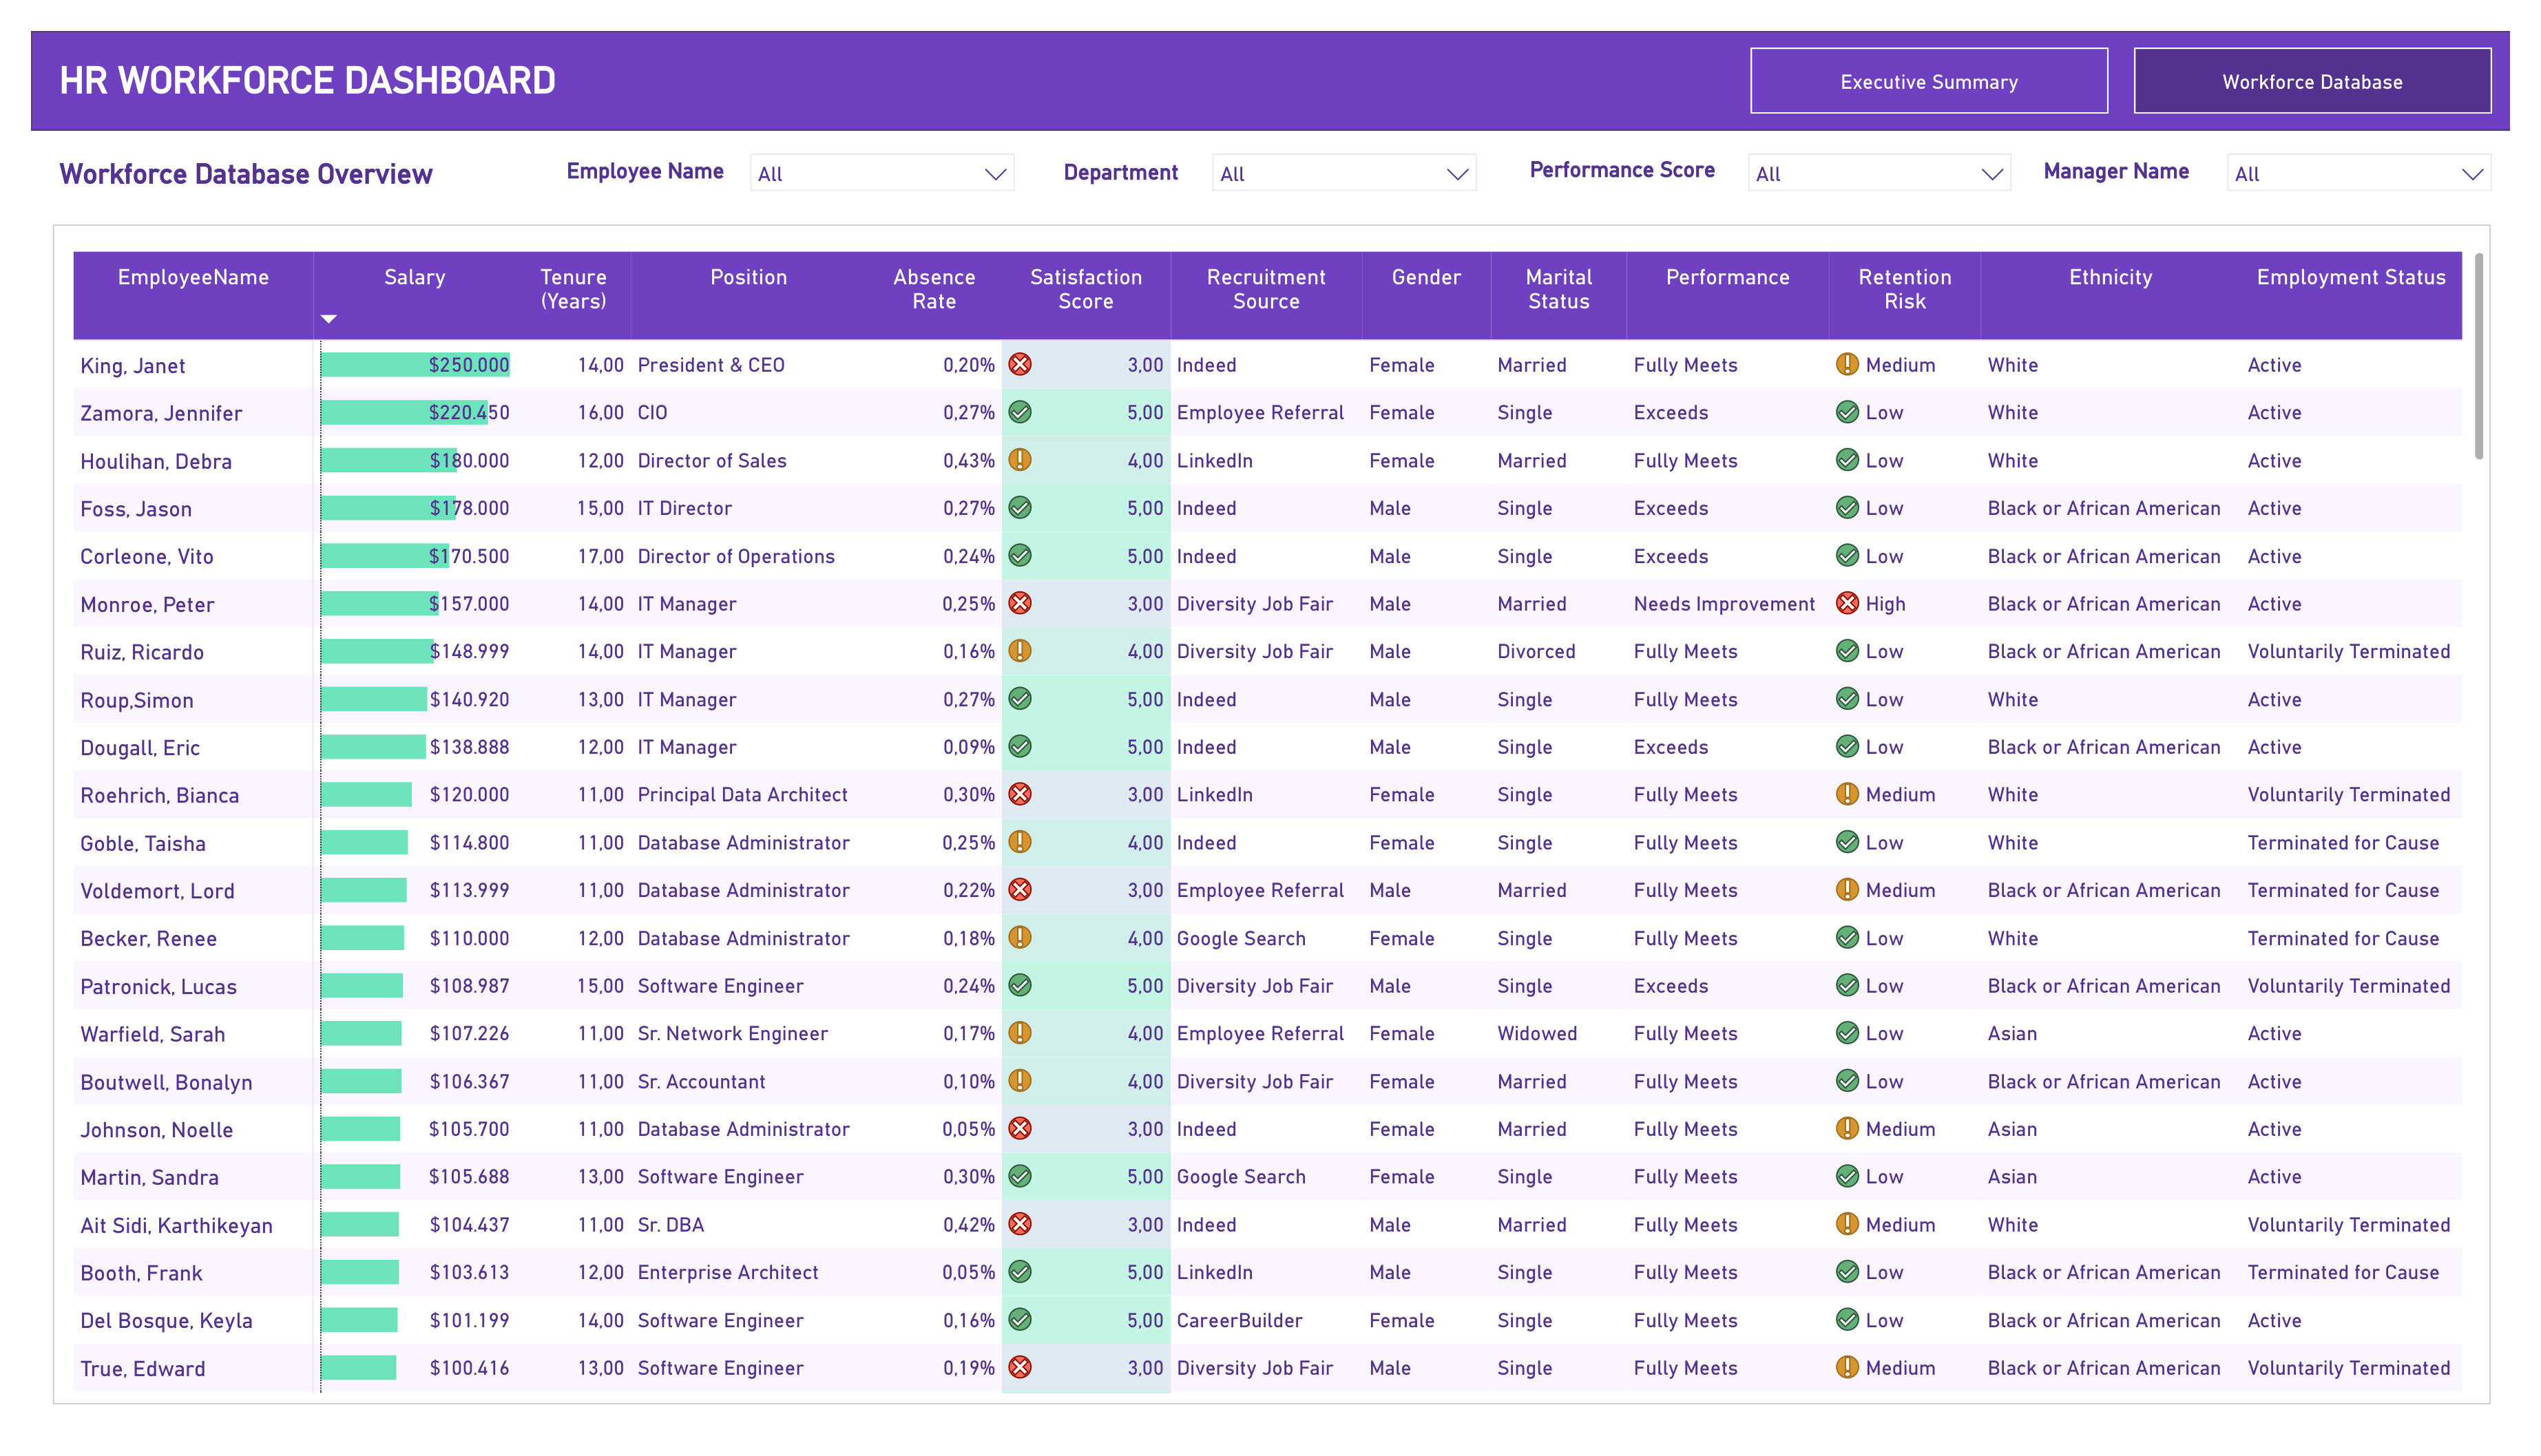

What the dashboard file says about the page in this screenshot:
{"tool":"powerbi","page":{"name":"Workforce Database","canvas":[1920,1080],"ordinal":1},"visuals":[{"type":"shape","box":[0,0,1920.6,77],"z":0},{"type":"textbox","box":[17,16,674.3,45.2],"z":1000},{"type":"pivotTable","title":"Global Workforce Database  Overview","fields":{"Rows":["Employee.EmployeeName"],"Values":["Measure.Total Salary Expenses","Measure.Avg. Tenure","Min(Employee.Position)","DAX Measures.Avg. Absenteeism Rate","Measure.Avg. Satisfaction Score","Min(Employee.RecruitmentSource)","Min(Employee.Gender)","Min(Employee.MaritalStatus)","Min(Employee.Performance)","Min(Employee.Retention Risk)","Min(Employee.RaceDesc)","Min(Employee.EmploymentStatus)"]},"box":[17,150.2,1887.5,913.5],"z":2000},{"type":"textbox","box":[17,93.1,658.1,34.1],"z":3000},{"type":"pageNavigator","box":[1332,12.7,575.2,51],"z":4000},{"type":"slicer","fields":{"Values":["Employee.ManagerName"]},"box":[1691.5,85.2,224.5,46.5],"z":5000},{"type":"textbox","box":[1553.7,93.1,137.8,34.1],"z":6000},{"type":"slicer","fields":{"Values":["Department.Department"]},"box":[905.2,85.1,224.5,46.5],"z":7000},{"type":"textbox","box":[794.7,94.5,109.9,34.1],"z":8000},{"type":"slicer","fields":{"Values":["Performance.PerformanceScore"]},"box":[1319.7,85.2,224.5,46.5],"z":9000},{"type":"textbox","box":[1156.3,91.8,163.7,33.3],"z":10000},{"type":"slicer","fields":{"Values":["Employee.EmployeeName"]},"box":[546.9,85.2,224.9,46.6],"z":11000},{"type":"textbox","box":[409.8,93.1,141,33.3],"z":12000}]}

Visuals, with their boxes in screenshot pixels (x1, y1, x2, y2), scaled from the page's 1920x1080 canvas onto the 2541x1456 screenshot:
shape: region(0, 0, 2540, 104)
textbox: region(23, 21, 915, 83)
"Global Workforce Database  Overview" pivotTable: region(23, 202, 2520, 1434)
textbox: region(23, 125, 893, 171)
pageNavigator: region(1763, 17, 2524, 86)
slicer - Employee.ManagerName: region(2239, 115, 2535, 178)
textbox: region(2056, 125, 2239, 171)
slicer - Department.Department: region(1198, 115, 1495, 178)
textbox: region(1052, 127, 1198, 173)
slicer - Performance.PerformanceScore: region(1746, 115, 2044, 178)
textbox: region(1530, 124, 1747, 169)
slicer - Employee.EmployeeName: region(724, 115, 1021, 178)
textbox: region(543, 125, 729, 171)
